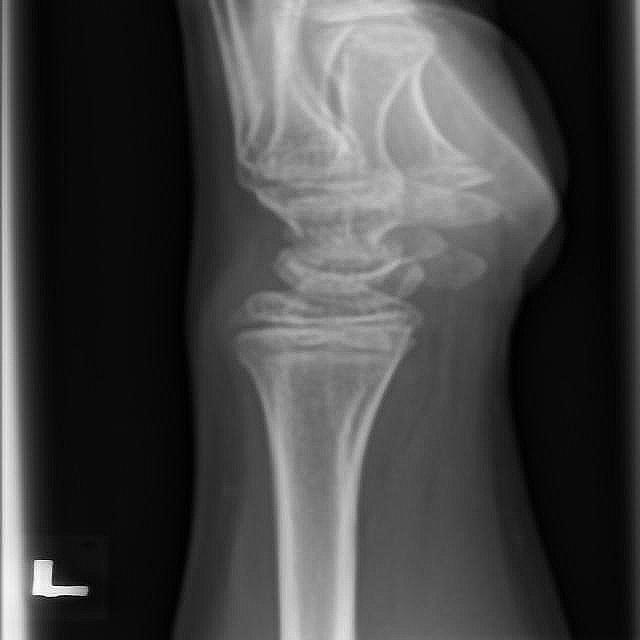bone: (228, 340, 402, 384)
